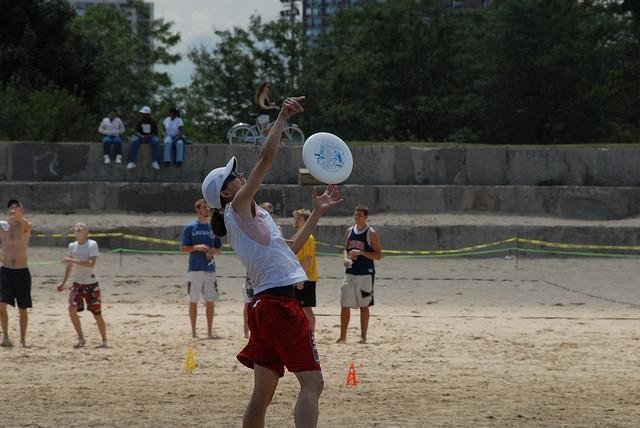bicycle: (226, 106, 306, 146)
